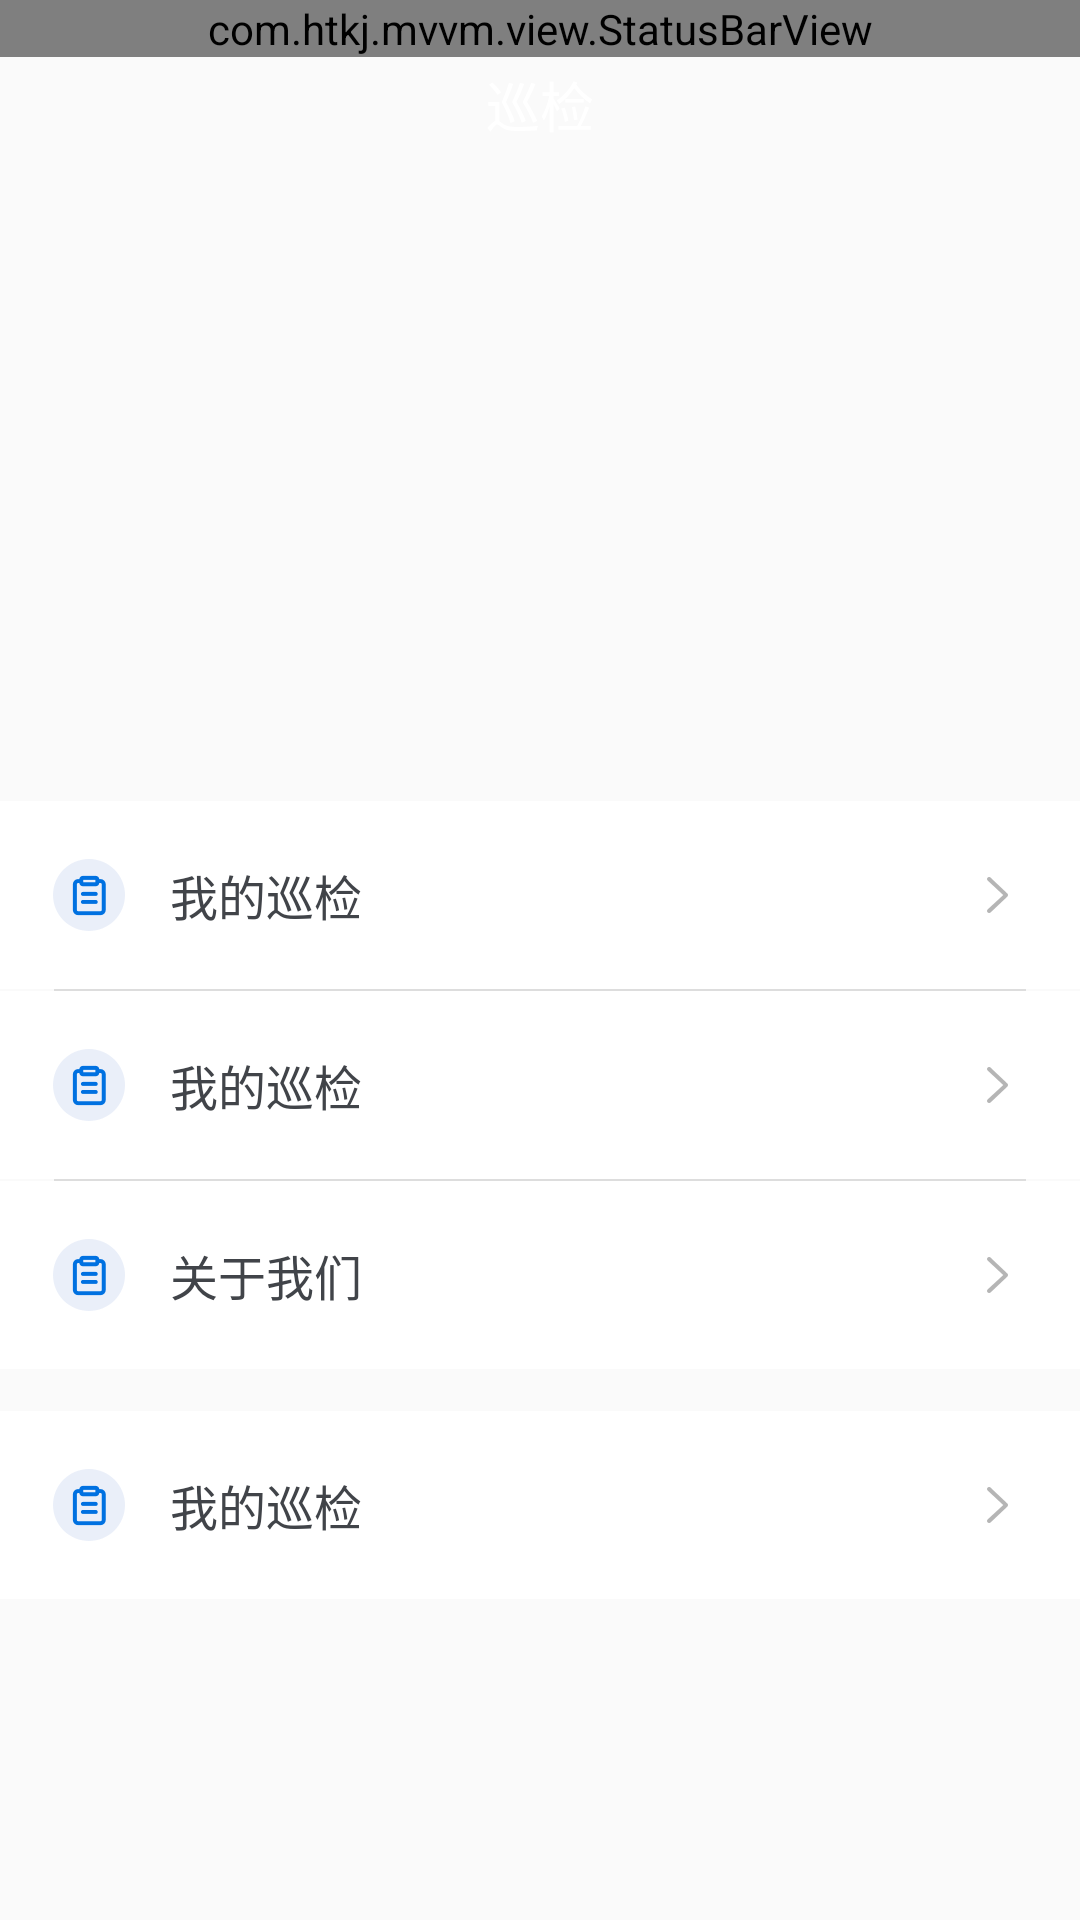

Screen size 1080w x 1920h. Icon name, then its center in pixels as (x=x, y=y):
inspect: (x=89, y=895), (x=89, y=1085), (x=89, y=1275), (x=89, y=1505)
